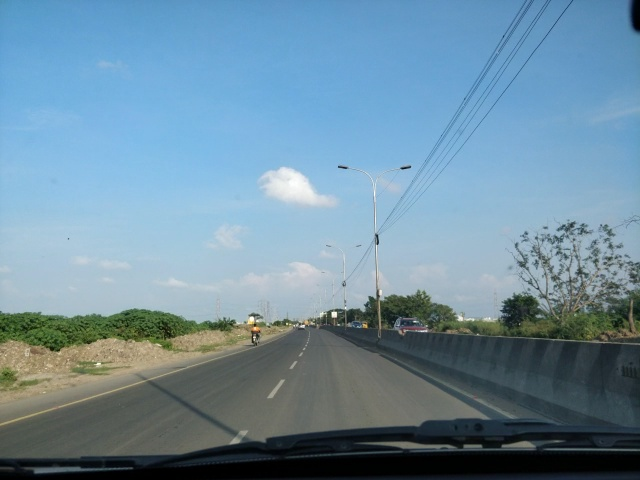auto: (362, 321, 370, 329)
car: (392, 313, 428, 341), (351, 319, 362, 331), (297, 320, 307, 331)
motorbike: (246, 321, 264, 346)
